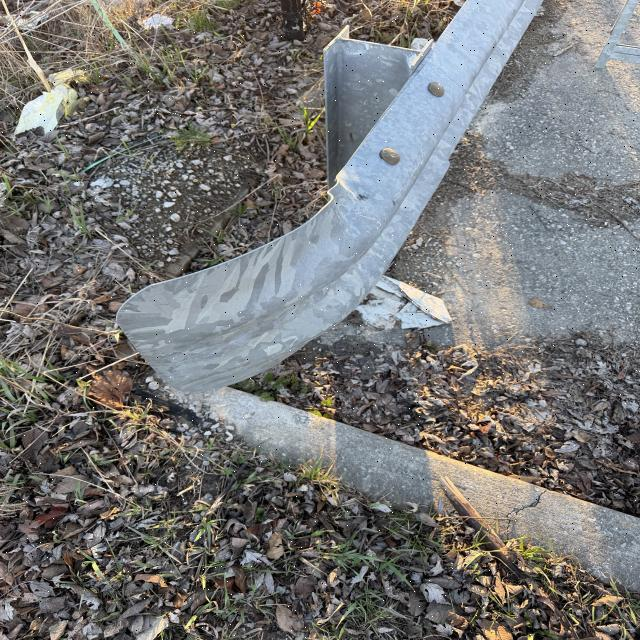Guard rail: (140, 43, 548, 363)
